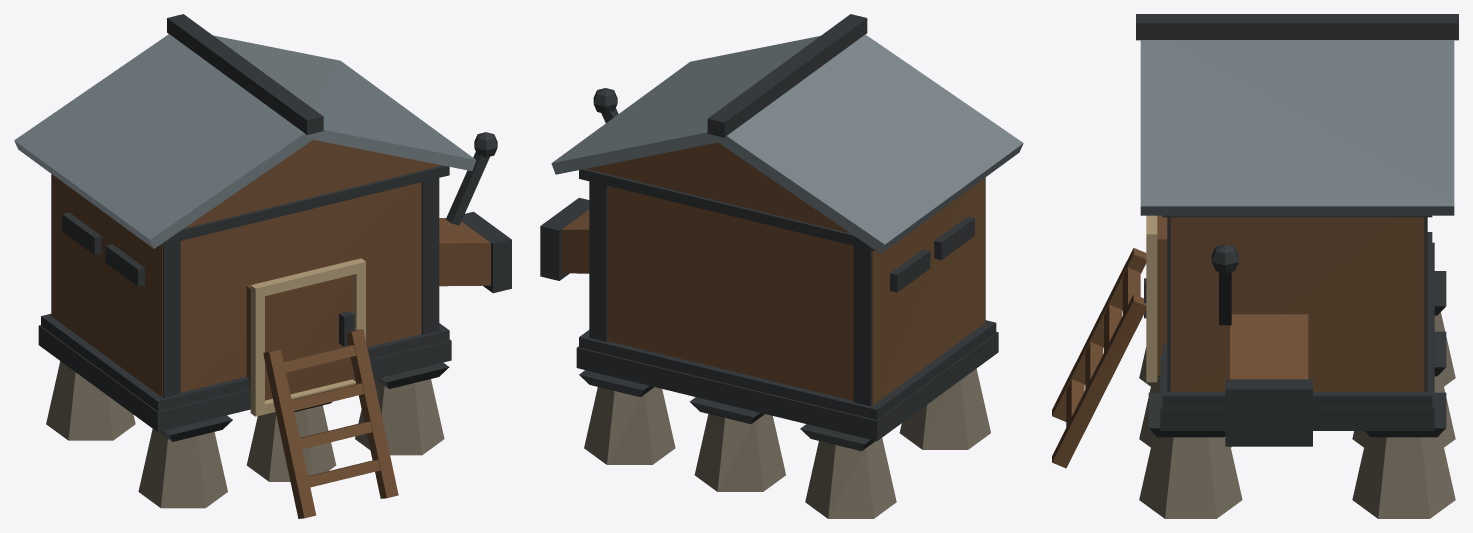
The model's file is granary.source.glb.
The picture shows the model from 3 angles, left to right: view 1: azimuth 30°, elevation 25°; view 2: azimuth 150°, elevation 25°; view 3: azimuth 270°, elevation 25°; orthographic projection. The views are drawn at different scales.
Visible parts, largest first — view 1: granary-granary-shell-mesh, granary-left-roof-panel-mesh, granary-right-roof-panel-mesh, granary-hatch-leaf-mesh, granary-front-gable-mesh, granary-granary-floor-mesh, granary-front-left-stone-pier-mesh, granary-roof-ridge-mesh, granary-body-band-0.84-mesh, granary-rear-left-stone-pier-mesh, granary-front-right-stone-pier-mesh, granary-front-center-stone-pier-mesh (+20 smaller); view 2: granary-granary-shell-mesh, granary-left-roof-panel-mesh, granary-right-roof-panel-mesh, granary-granary-floor-mesh, granary-rear-gable-mesh, granary-body-band-0.84-mesh, granary-rear-left-stone-pier-mesh, granary-rear-center-stone-pier-mesh, granary-rear-right-stone-pier-mesh, granary-roof-ridge-mesh, granary-front-left-stone-pier-mesh, granary-body-band-2.18-mesh (+9 smaller); view 3: granary-right-roof-panel-mesh, granary-granary-shell-mesh, granary-roof-ridge-mesh, granary-rear-right-stone-pier-mesh, granary-front-right-stone-pier-mesh, granary-chute-mouth-mesh, granary-chute-body-mesh, granary-granary-floor-mesh, granary-body-band-0.84-mesh, granary-ladder-right-rail-mesh, granary-ladder-left-rail-mesh, granary-hatch-right-trim-mesh (+17 smaller).
Boxes of the visible parts, x1=… form: granary-granary-shell-mesh: x1=52, y1=174, x2=421, y2=397; granary-left-roof-panel-mesh: x1=14, y1=34, x2=318, y2=248; granary-right-roof-panel-mesh: x1=213, y1=35, x2=476, y2=171; granary-hatch-leaf-mesh: x1=246, y1=259, x2=354, y2=400; granary-front-gable-mesh: x1=184, y1=140, x2=442, y2=228; granary-granary-floor-mesh: x1=38, y1=325, x2=451, y2=431; granary-front-left-stone-pier-mesh: x1=138, y1=429, x2=227, y2=508; granary-roof-ridge-mesh: x1=167, y1=14, x2=323, y2=134; granary-body-band-0.84-mesh: x1=41, y1=313, x2=449, y2=411; granary-rear-left-stone-pier-mesh: x1=46, y1=361, x2=135, y2=440; granary-front-right-stone-pier-mesh: x1=355, y1=379, x2=444, y2=455; granary-front-center-stone-pier-mesh: x1=246, y1=405, x2=336, y2=481; granary-granary-shell-mesh: x1=607, y1=178, x2=984, y2=405; granary-left-roof-panel-mesh: x1=713, y1=34, x2=1023, y2=253; granary-right-roof-panel-mesh: x1=551, y1=36, x2=819, y2=174; granary-granary-floor-mesh: x1=576, y1=332, x2=998, y2=441; granary-rear-gable-mesh: x1=586, y1=142, x2=849, y2=232; granary-body-band-0.84-mesh: x1=579, y1=320, x2=996, y2=419; granary-rear-left-stone-pier-mesh: x1=805, y1=438, x2=896, y2=518; granary-rear-center-stone-pier-mesh: x1=694, y1=414, x2=785, y2=491; granary-rear-right-stone-pier-mesh: x1=584, y1=387, x2=675, y2=464; granary-roof-ridge-mesh: x1=707, y1=14, x2=867, y2=137; granary-front-left-stone-pier-mesh: x1=899, y1=368, x2=990, y2=449; granary-body-band-2.18-mesh: x1=579, y1=169, x2=876, y2=251; granary-right-roof-panel-mesh: x1=1140, y1=40, x2=1454, y2=215; granary-granary-shell-mesh: x1=1170, y1=217, x2=1424, y2=391; granary-roof-ridge-mesh: x1=1136, y1=14, x2=1458, y2=40; granary-rear-right-stone-pier-mesh: x1=1352, y1=434, x2=1455, y2=518; granary-front-right-stone-pier-mesh: x1=1139, y1=434, x2=1242, y2=518; granary-chute-mouth-mesh: x1=1225, y1=379, x2=1312, y2=446; granary-chute-body-mesh: x1=1230, y1=314, x2=1308, y2=379; granary-granary-floor-mesh: x1=1160, y1=242, x2=1434, y2=430; granary-body-band-0.84-mesh: x1=1162, y1=232, x2=1432, y2=407; granary-ladder-right-rail-mesh: x1=1052, y1=294, x2=1146, y2=468; granary-ladder-left-rail-mesh: x1=1052, y1=248, x2=1146, y2=421; granary-hatch-right-trim-mesh: x1=1146, y1=234, x2=1157, y2=382.
Size of the model in its own units: 3.39 by 2.98 by 2.6.
